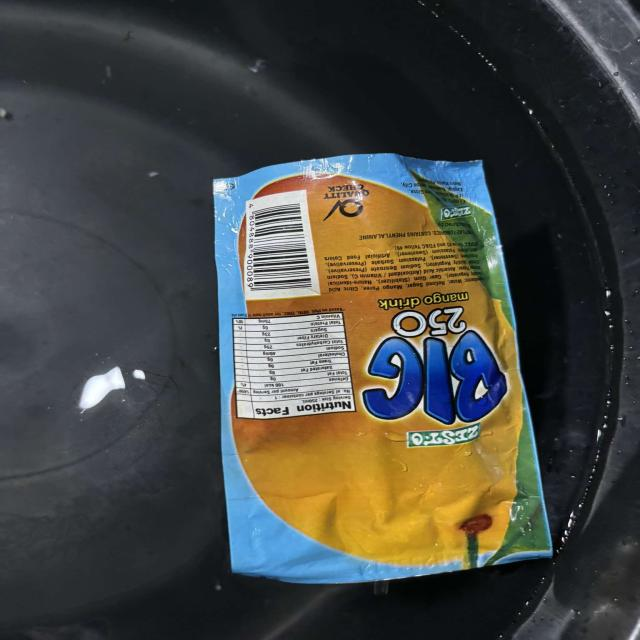Plastic Pouch: (163, 141, 573, 612)
